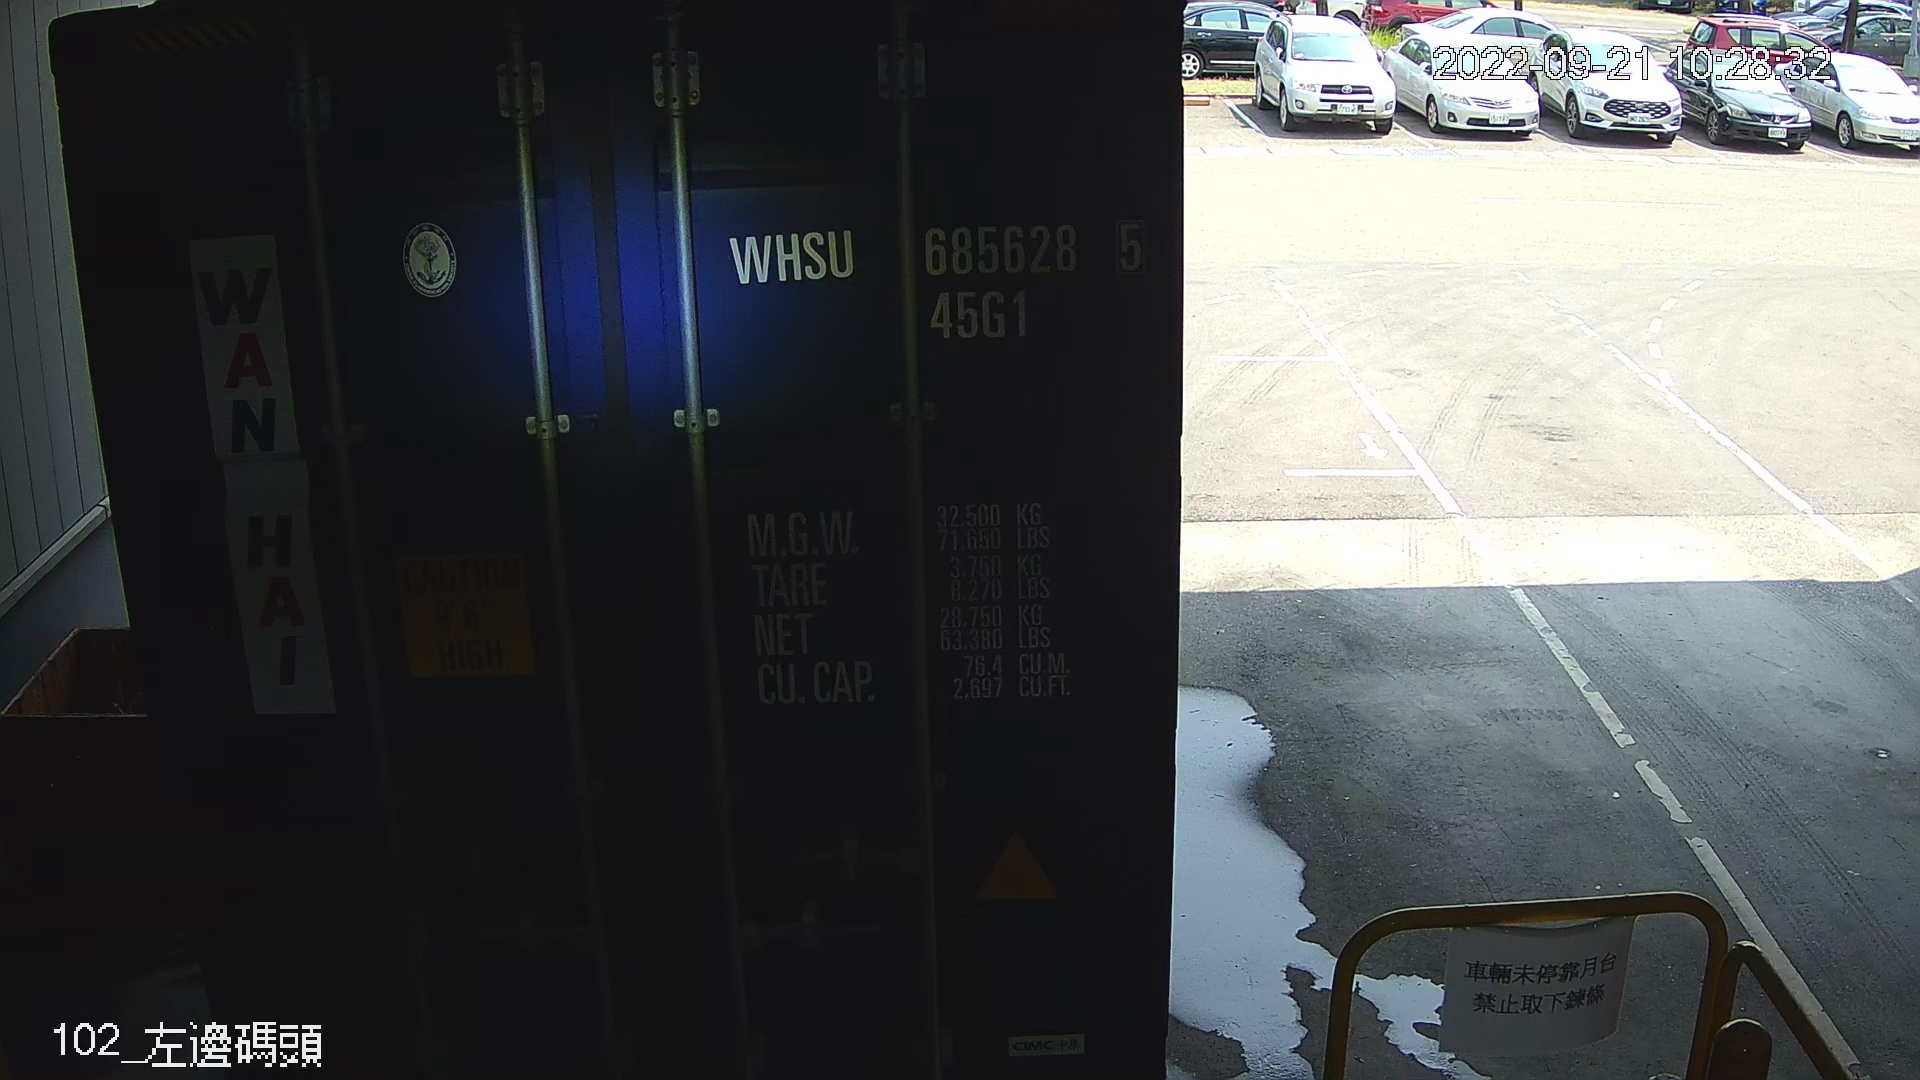container: (709, 207, 1156, 353)
